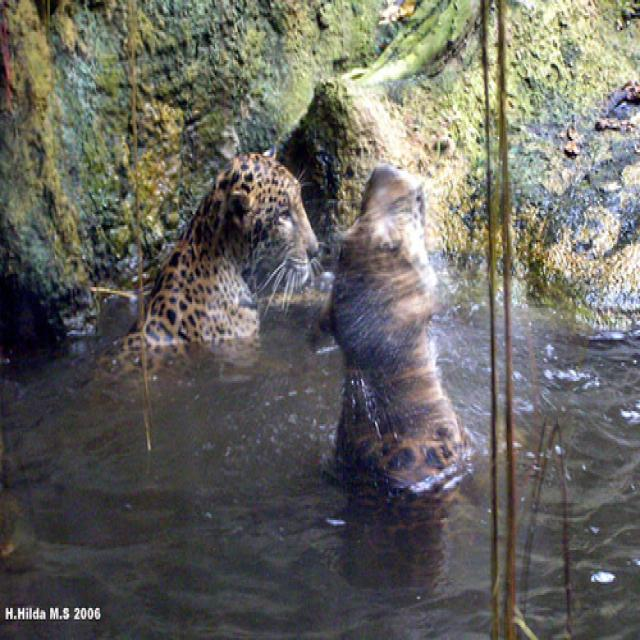Leopard: (302, 154, 475, 495), (100, 150, 320, 377)
